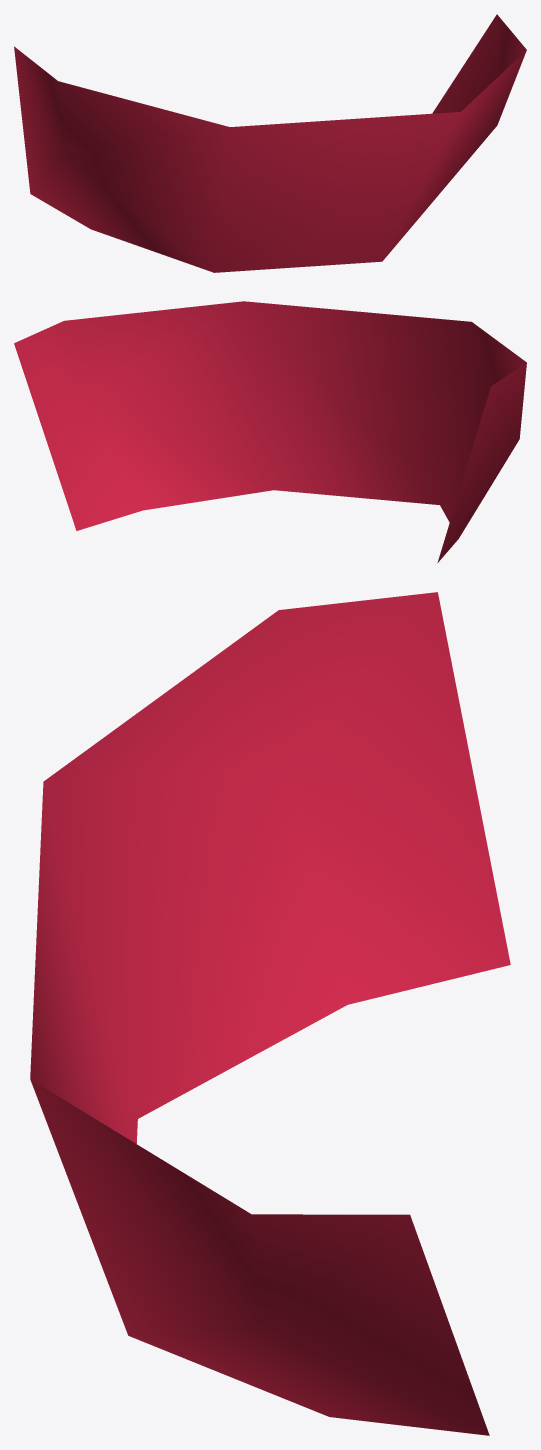
The picture shows the model from 3 angles, top to bottom: view 1: azimuth 30°, elevation 25°; view 2: azimuth 150°, elevation 25°; view 3: azimuth 270°, elevation 25°; orthographic projection. The views are drawn at different scales.
Parts seen in each view (by area): view 1: ef_478; view 2: ef_478; view 3: ef_478.
Part boxes in pixels (<box>): ef_478: <box>14,14,526,272</box>; ef_478: <box>14,301,526,562</box>; ef_478: <box>30,592,510,1435</box>.
Size of the model in its own units: 0.7202 by 0.3356 by 0.3148.
Materials: 1 (1 with a texture image).
